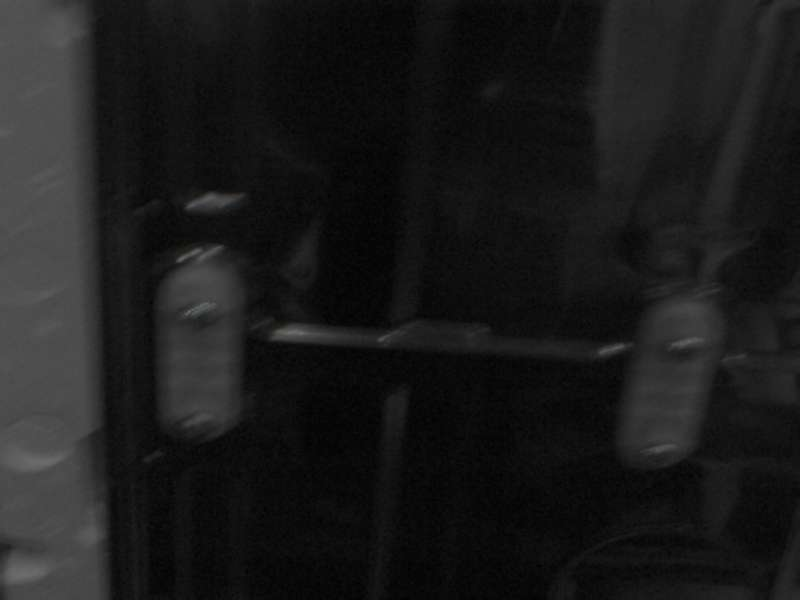screw: (174, 412, 223, 442), (178, 301, 222, 329), (639, 443, 681, 469), (665, 336, 707, 359)
